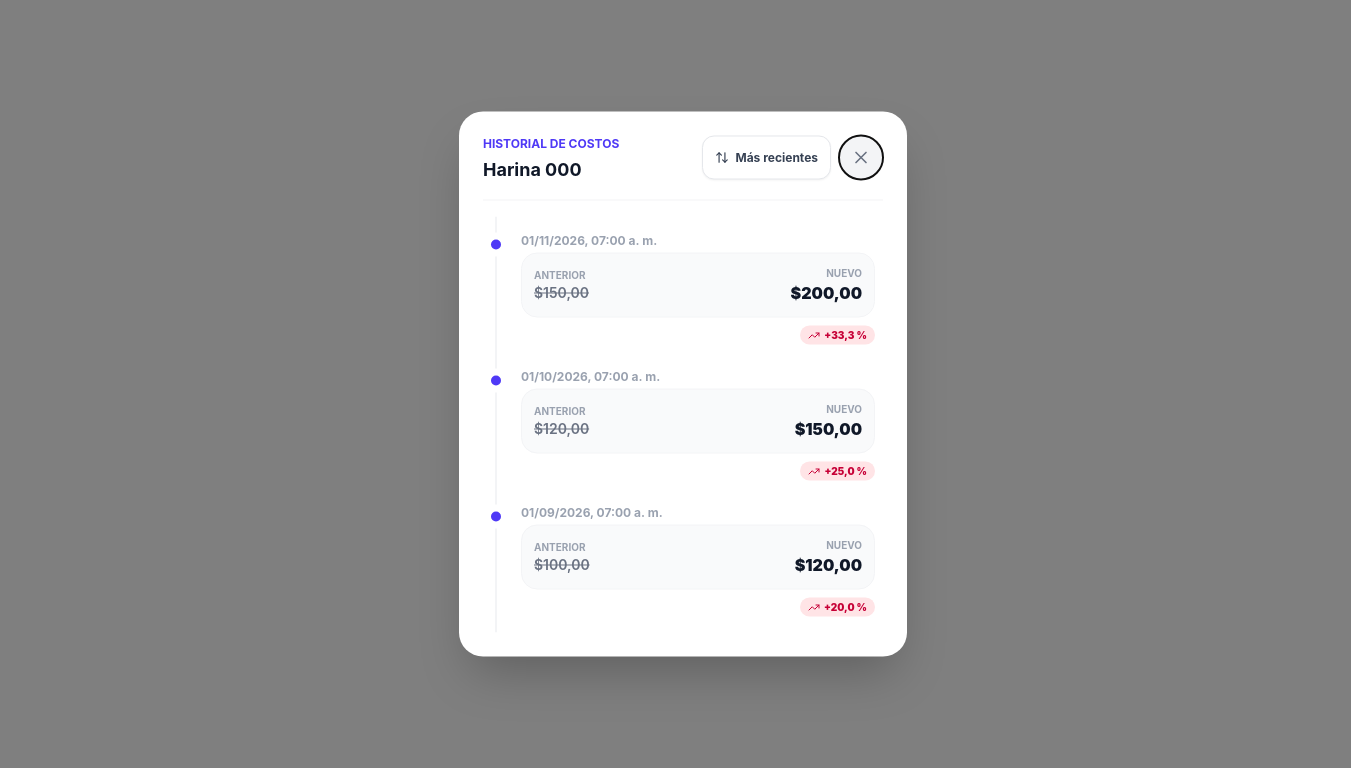
Scenario: PriceHistoryModal - Criterios de Aceptación Issue #354 › permite alternar el orden hacia más antiguos primero al hacer click en el botón de orden
Click the button with aria-label "Ordenar por más antiguos primero" at (767, 158), box [702,136,831,180]
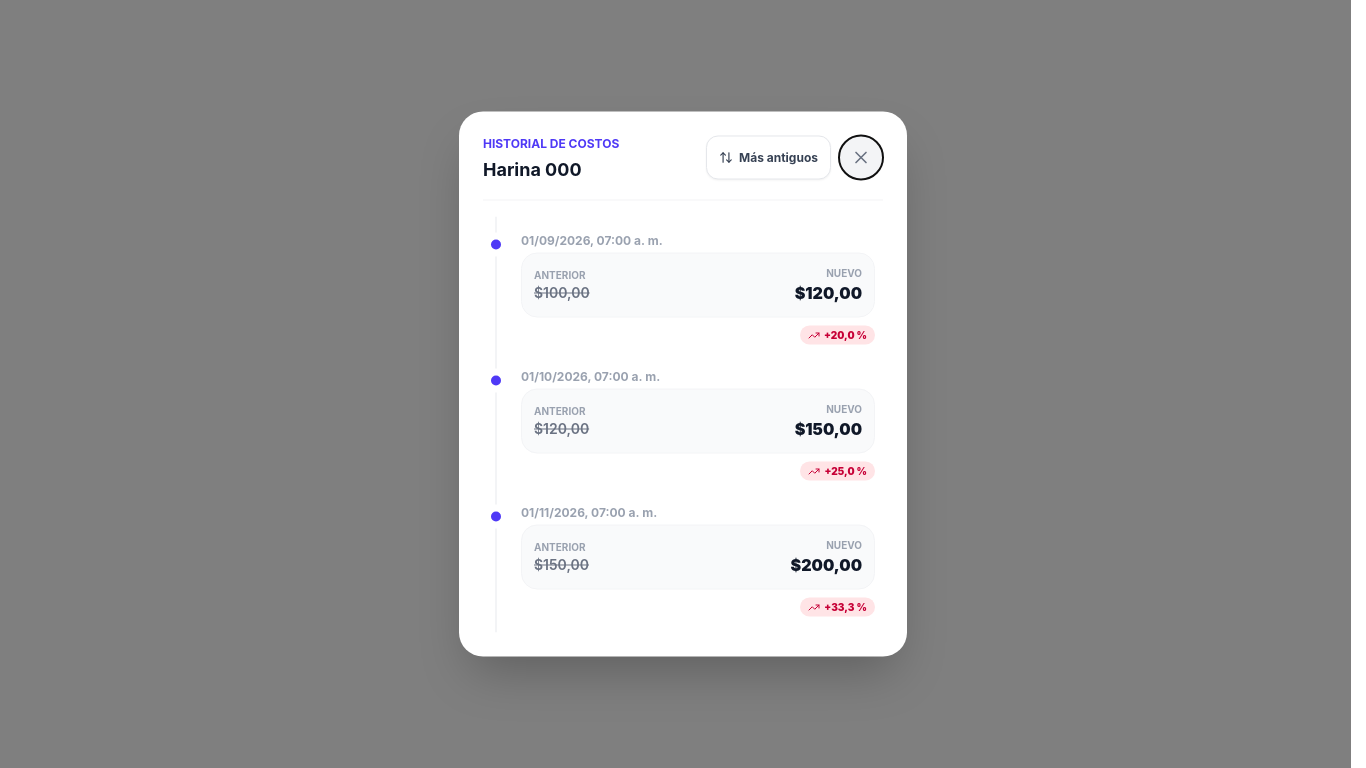
Expected: the button with aria-label "Ordenar por más recientes primero" is shown, [706,136,831,180]
